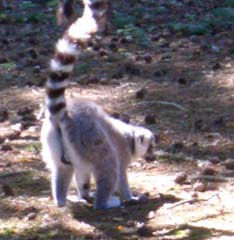cat: (40, 0, 157, 211)
